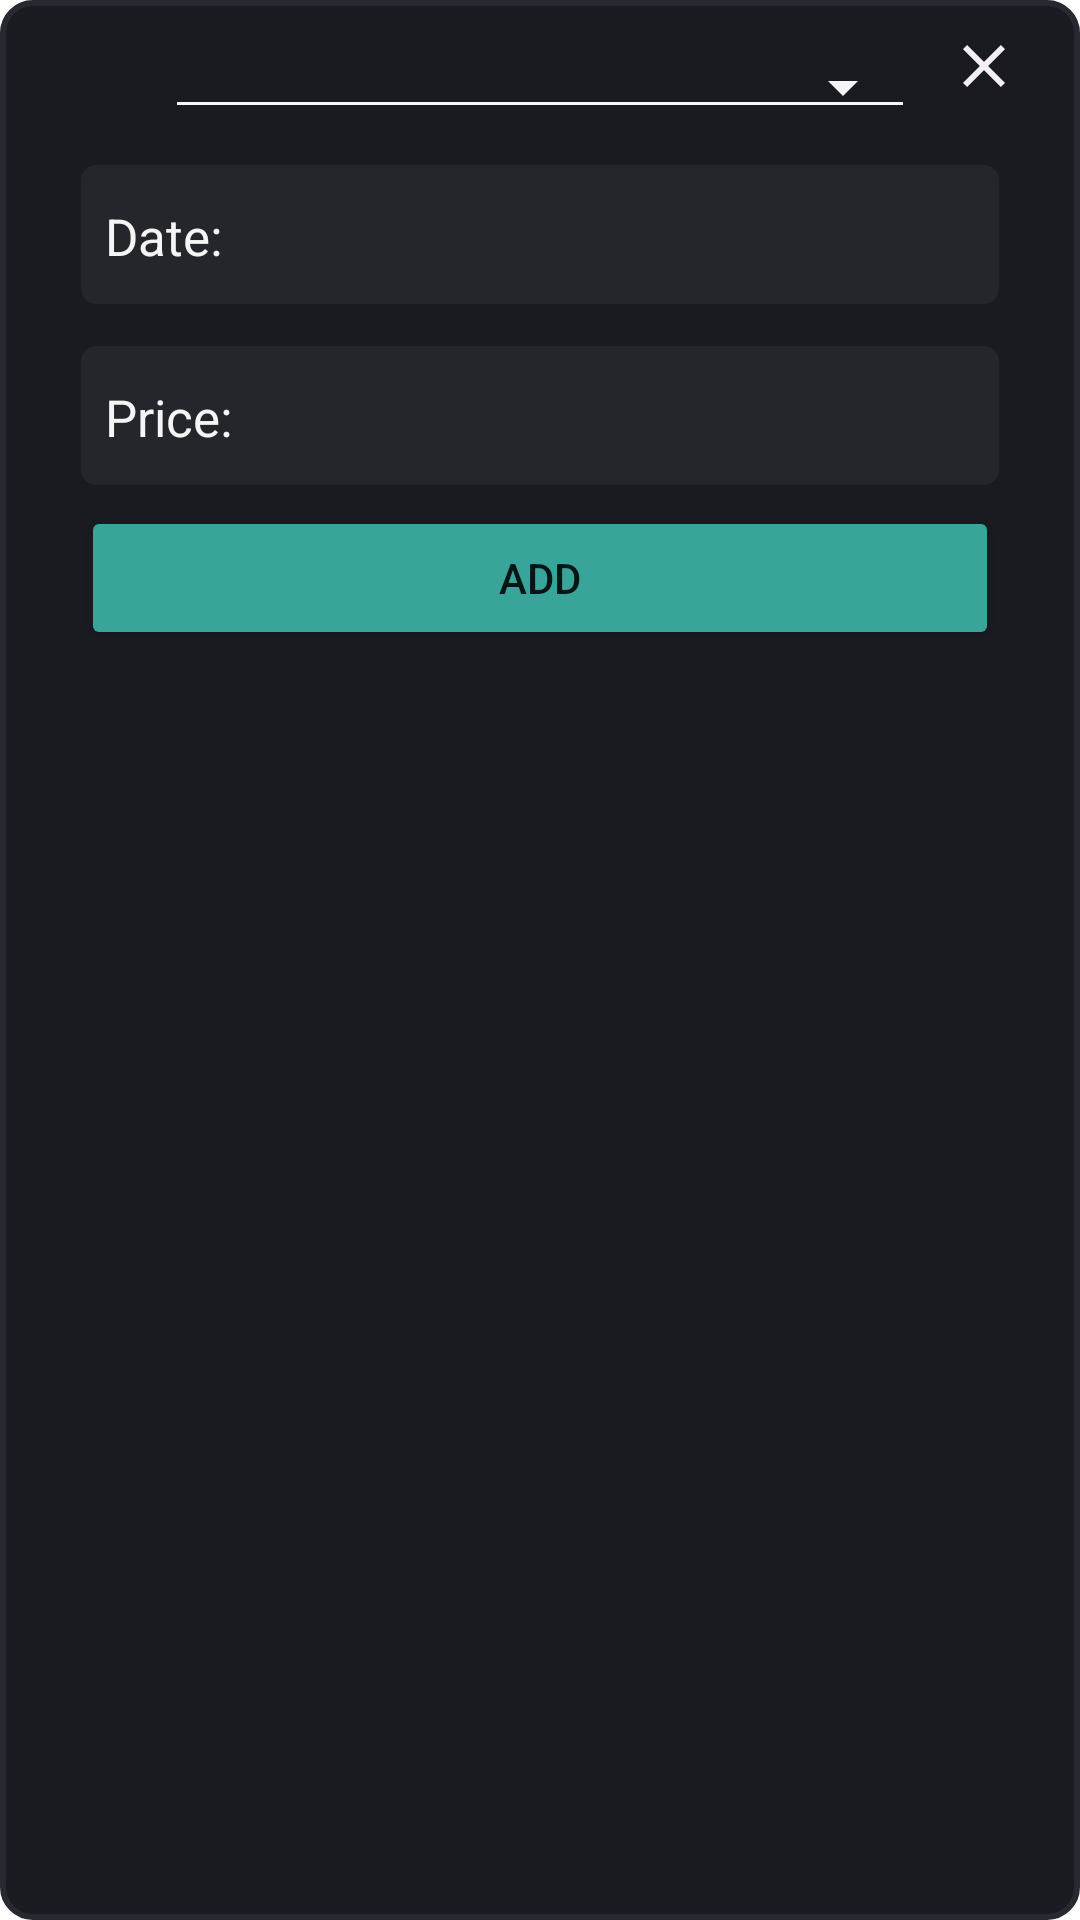

Named icons in this screenshot (1080px x 1920px) and their bounding boxes, (x1, y1, x2, y2):
close: (963, 45, 1005, 87)
